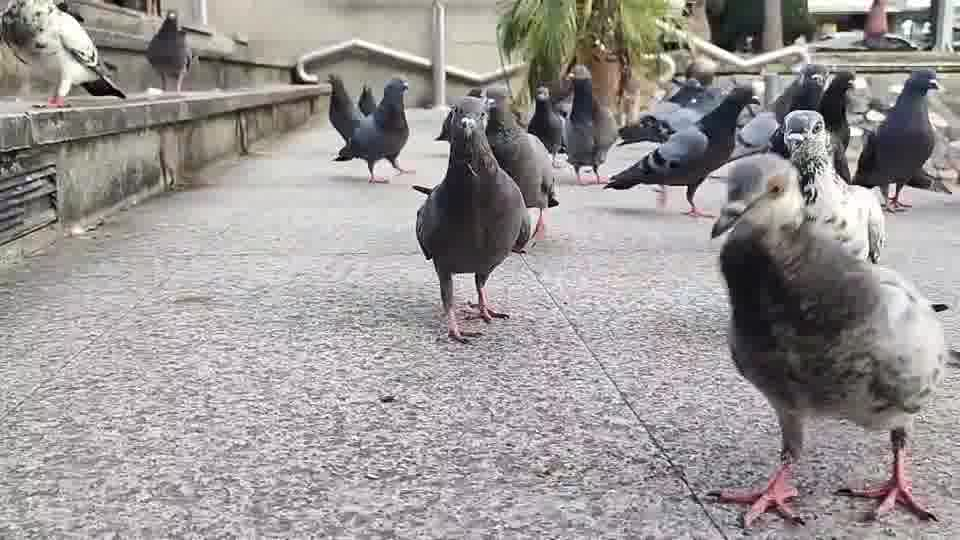Pigeon: (705, 168, 950, 529), (411, 103, 532, 344), (602, 85, 757, 217), (464, 84, 559, 239), (0, 0, 127, 108), (852, 68, 941, 213), (326, 73, 410, 183), (563, 63, 619, 184), (145, 9, 193, 93), (526, 84, 567, 167)
